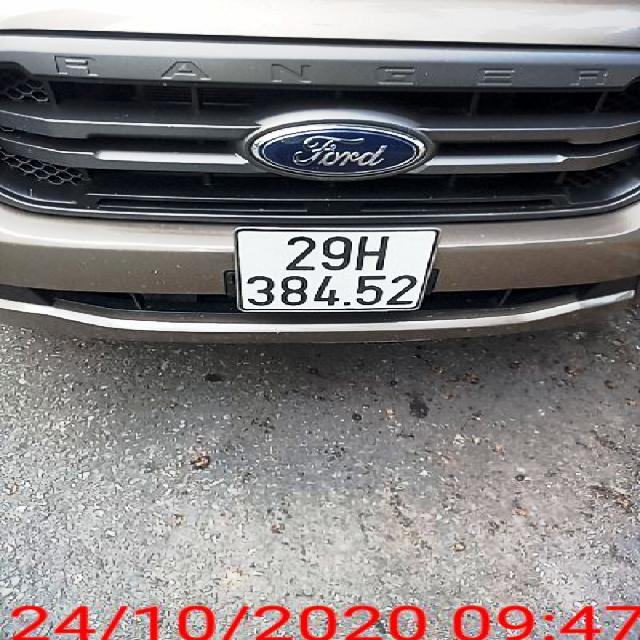license_plate: (240, 230, 443, 315)
